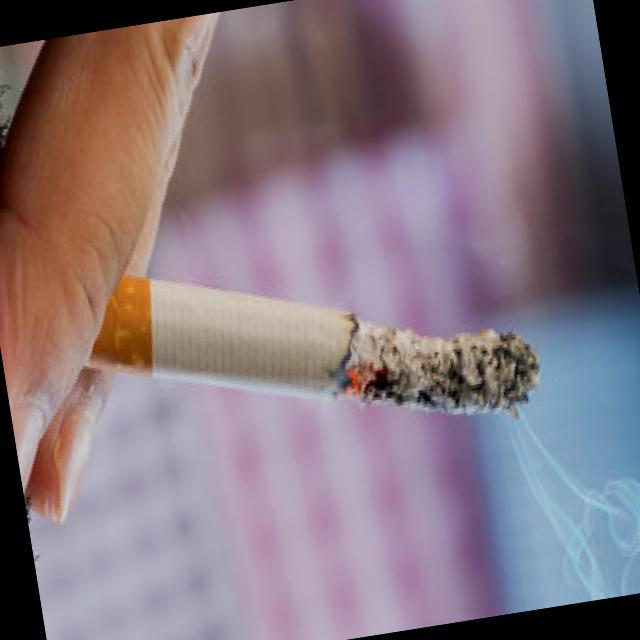smoke: (125, 218, 550, 482)
